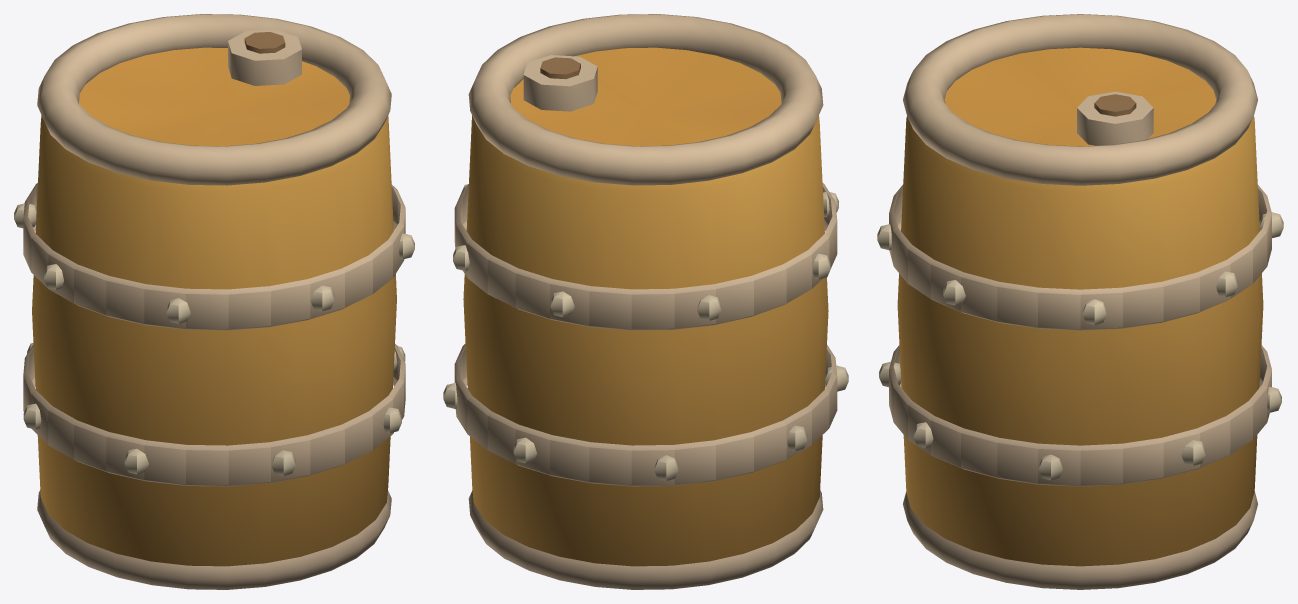
The model's file is cen_valak_barril_1.glb.
3 renders of one model, left to right at view 1: azimuth 30°, elevation 25°; view 2: azimuth 150°, elevation 25°; view 3: azimuth 270°, elevation 25°, orthographic.
Visible parts, largest first — view 1: barril; view 2: barril; view 3: barril.
Part boxes in pixels (bbox=[...]): barril: bbox=[14, 14, 414, 589]; barril: bbox=[443, 14, 848, 589]; barril: bbox=[877, 14, 1283, 589].
Bounding box in the file's own units: 1.18 × 1.43 × 1.17.
